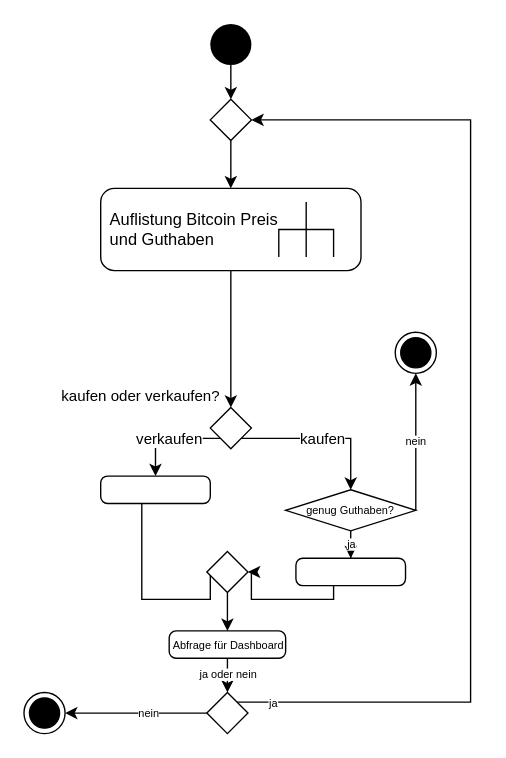
Some shapes in this 506 by 758 pixel diagram are drawn without their labels. Each missing label, with the centre of its shape:
Bestätigung kauf: the point at 350,571
Bestätigung verkauf: the point at 154,489
